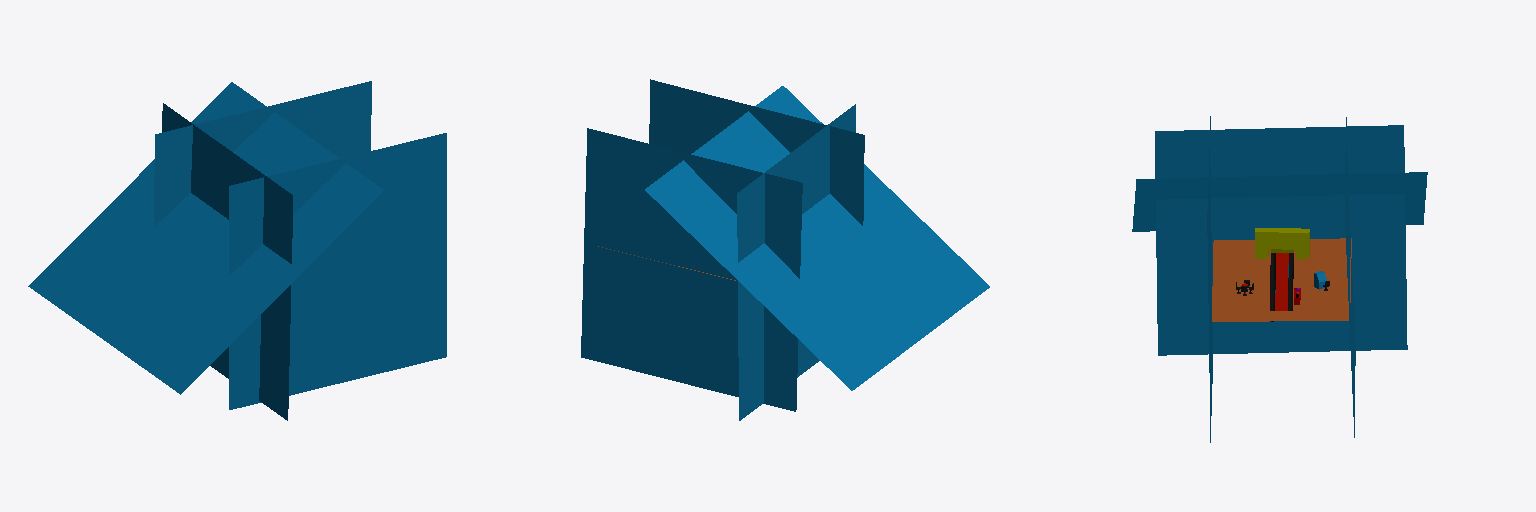
File: Alley.obj
The picture shows the model from 3 angles: view 1: azimuth 30°, elevation 25°; view 2: azimuth 150°, elevation 25°; view 3: azimuth 270°, elevation 25°; orthographic projection.
Parts seen in each view (by area): view 1: fond, mure_gauch, fond1, mure_droite; view 2: mure_droite, fond, mure_gauch, fond1; view 3: fond1, fond, Plane1, Plane2, cube11, mure_droite, mure_gauch, rampe_boule.
Boxes of the visible parts, <box> form: fond: <box>28,82,383,394</box>; mure_gauch: <box>229,133,446,409</box>; fond1: <box>162,103,292,420</box>; mure_droite: <box>154,81,371,226</box>; mure_droite: <box>581,128,802,411</box>; fond: <box>645,86,989,390</box>; mure_gauch: <box>649,79,864,225</box>; fond1: <box>737,104,855,420</box>; fond1: <box>1155,125,1407,355</box>; fond: <box>1132,172,1427,231</box>; Plane1: <box>1212,240,1270,321</box>; Plane2: <box>1293,238,1351,320</box>; cube11: <box>1255,228,1309,258</box>; mure_droite: <box>1345,117,1355,437</box>; mure_gauch: <box>1207,116,1212,442</box>; rampe_boule: <box>1275,253,1288,310</box>.
Bounding box in the file's own units: 2725 × 1931 × 2236.